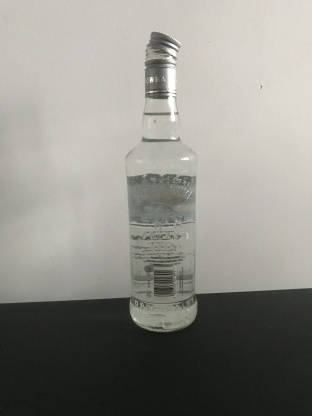nakretka: (143, 28, 181, 99)
